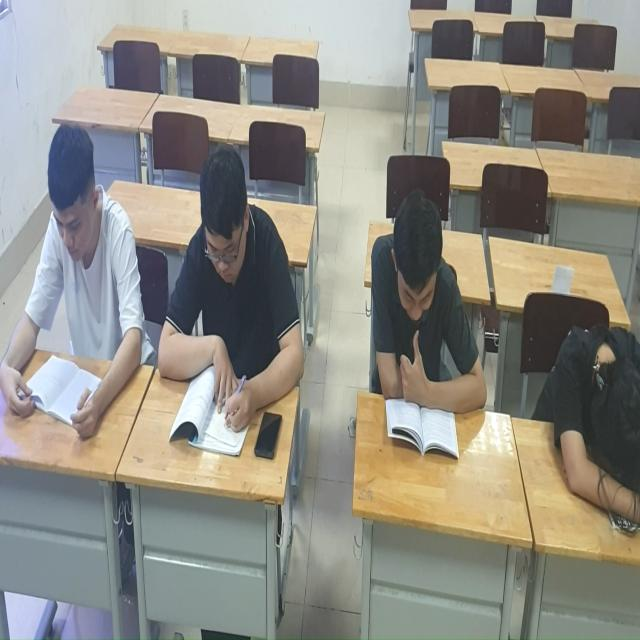read: (3, 112, 144, 451), (151, 140, 297, 467), (367, 149, 475, 470)
sleep: (541, 295, 640, 524)
